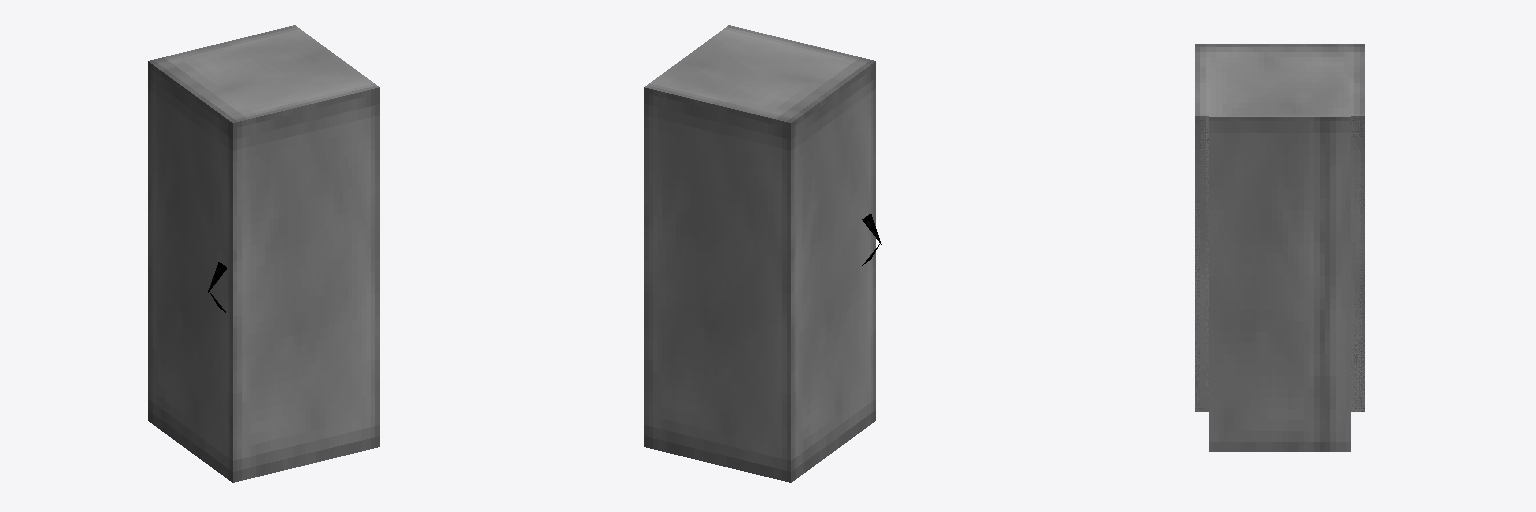
3 views of the same model, side by side, from view 1: azimuth 30°, elevation 25°; view 2: azimuth 150°, elevation 25°; view 3: azimuth 270°, elevation 25° (orthographic).
Parts seen in each view (by area): view 1: Mesh5_Group5_Model, Mesh4_Group4_Model; view 2: Mesh5_Group5_Model, Mesh4_Group4_Model; view 3: Mesh5_Group5_Model, Mesh4_Group4_Model.
Boxes of the visible parts, <box> form: Mesh5_Group5_Model: <box>166,25,379,478</box>; Mesh4_Group4_Model: <box>148,57,249,482</box>; Mesh5_Group5_Model: <box>644,25,857,478</box>; Mesh4_Group4_Model: <box>774,57,881,482</box>; Mesh5_Group5_Model: <box>1195,52,1364,451</box>; Mesh4_Group4_Model: <box>1195,44,1364,411</box>.
Bounding box in the file's own units: 2.07 × 4.37 × 1.87.
Materials: 3 (3 with a texture image).